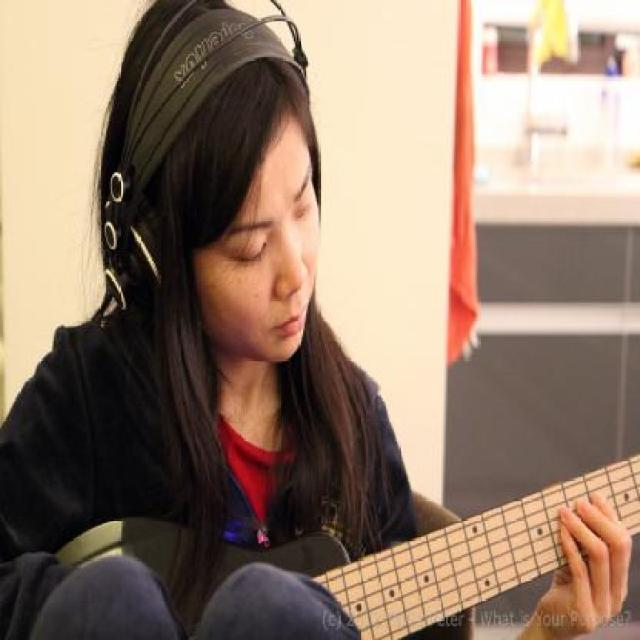earphone: (90, 0, 235, 340)
